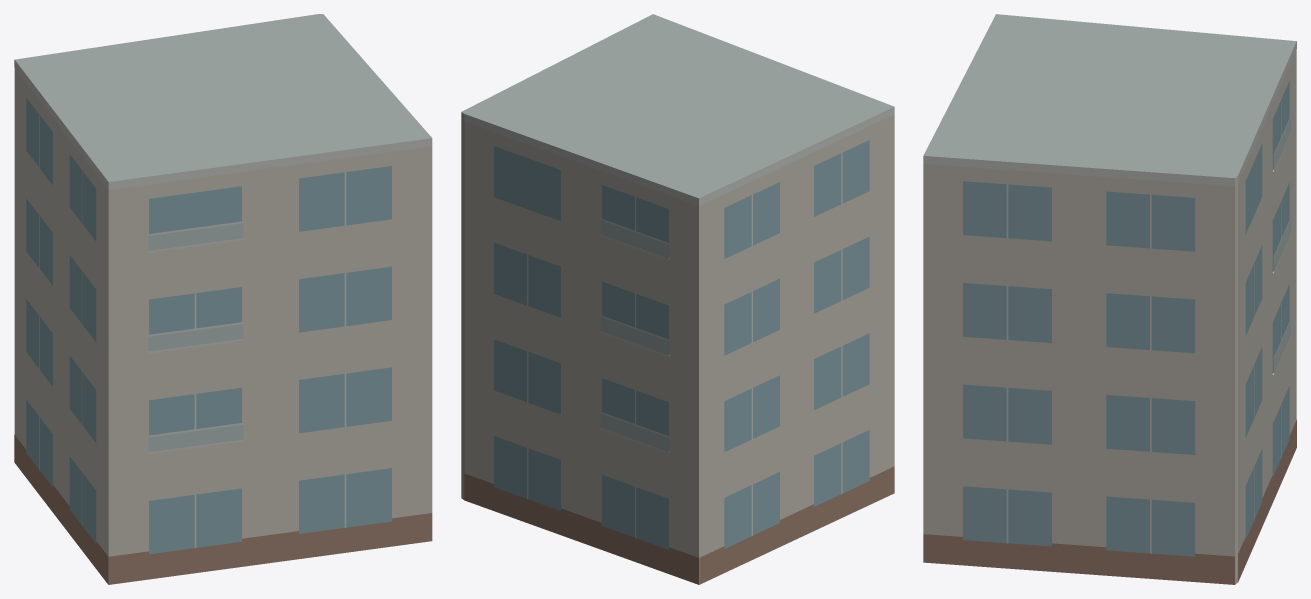
The model's file is survey-upis-32536781.glb.
The picture shows the model from 3 angles, left to right: view 1: azimuth 30°, elevation 25°; view 2: azimuth 150°, elevation 25°; view 3: azimuth 270°, elevation 25°; orthographic projection. The views are drawn at different scales.
Visible parts, largest first — view 1: survey-upis-32536781.tmp; view 2: survey-upis-32536781.tmp; view 3: survey-upis-32536781.tmp.
Part boxes in pixels (box(x1,y1,x2,y2)): survey-upis-32536781.tmp: box(14, 14, 432, 584); survey-upis-32536781.tmp: box(461, 14, 894, 584); survey-upis-32536781.tmp: box(923, 14, 1296, 584).
Size of the model in its own units: 10.7 by 12.35 by 10.29.
